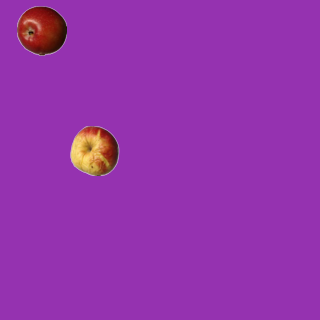Apple Braeburn: (16, 5, 66, 55)
Apple Red Yellow 1: (69, 125, 119, 175)
